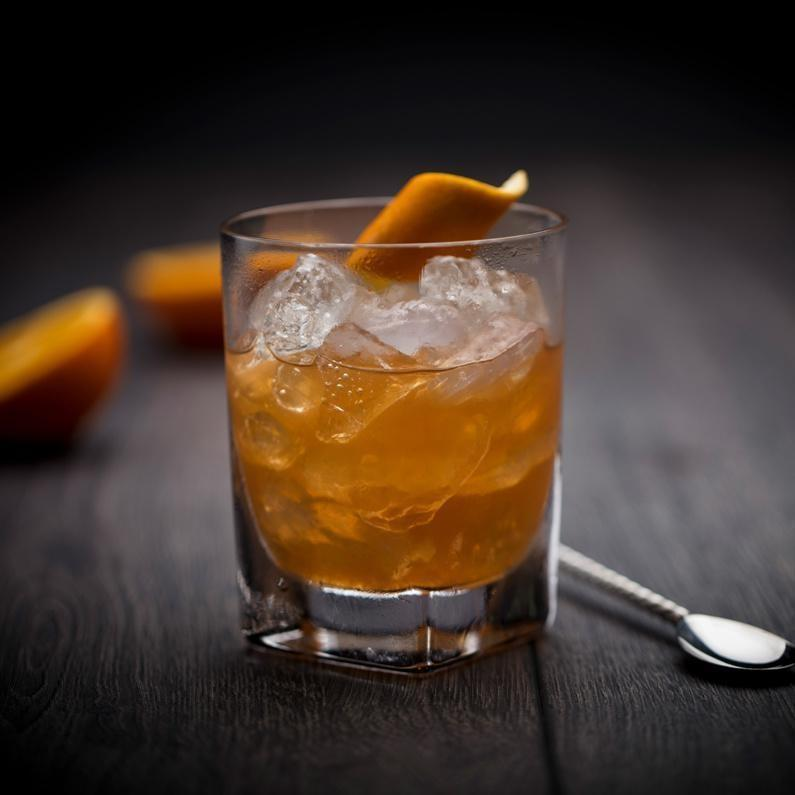glass-normal: (216, 195, 572, 673)
